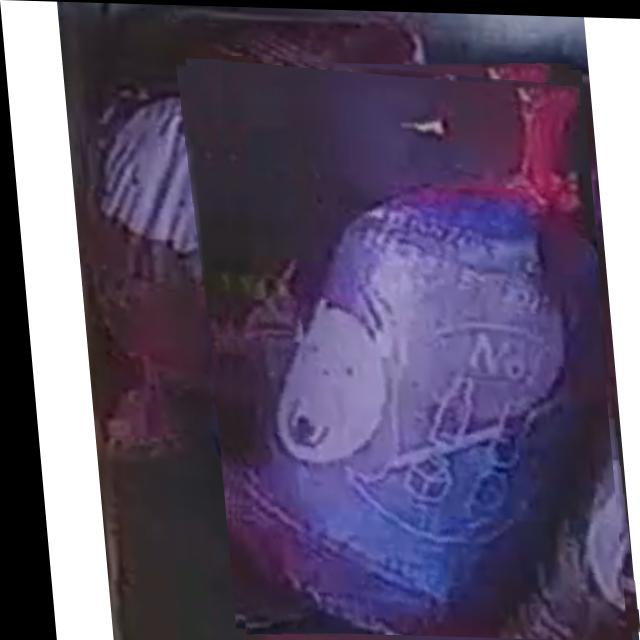other_trashbag: (227, 77, 598, 633)
